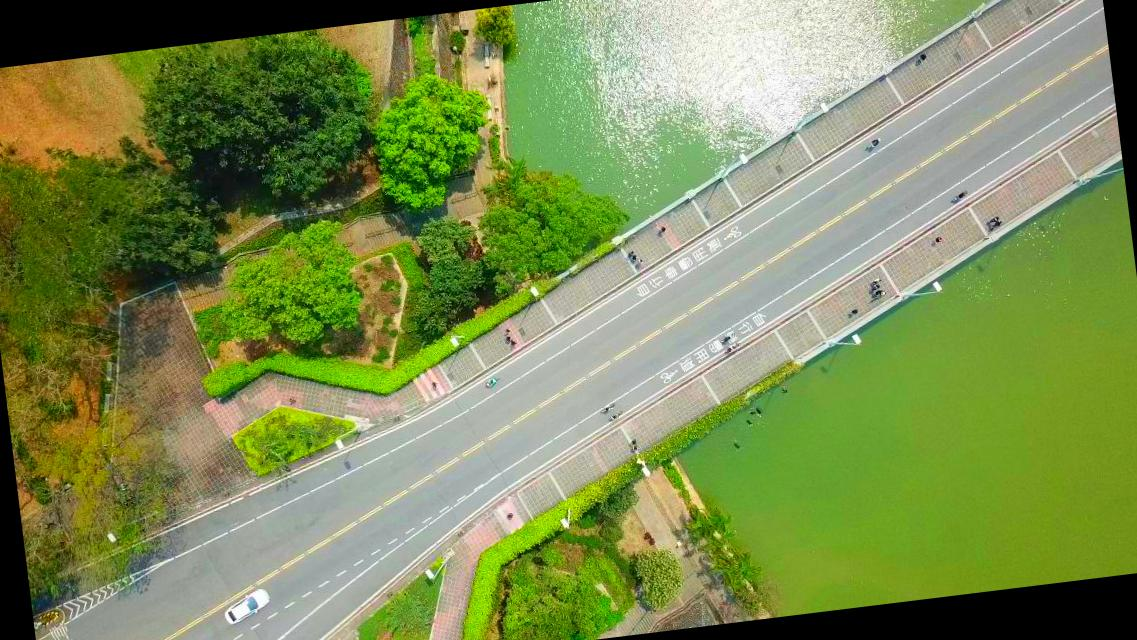vehicle: (222, 588, 272, 625)
